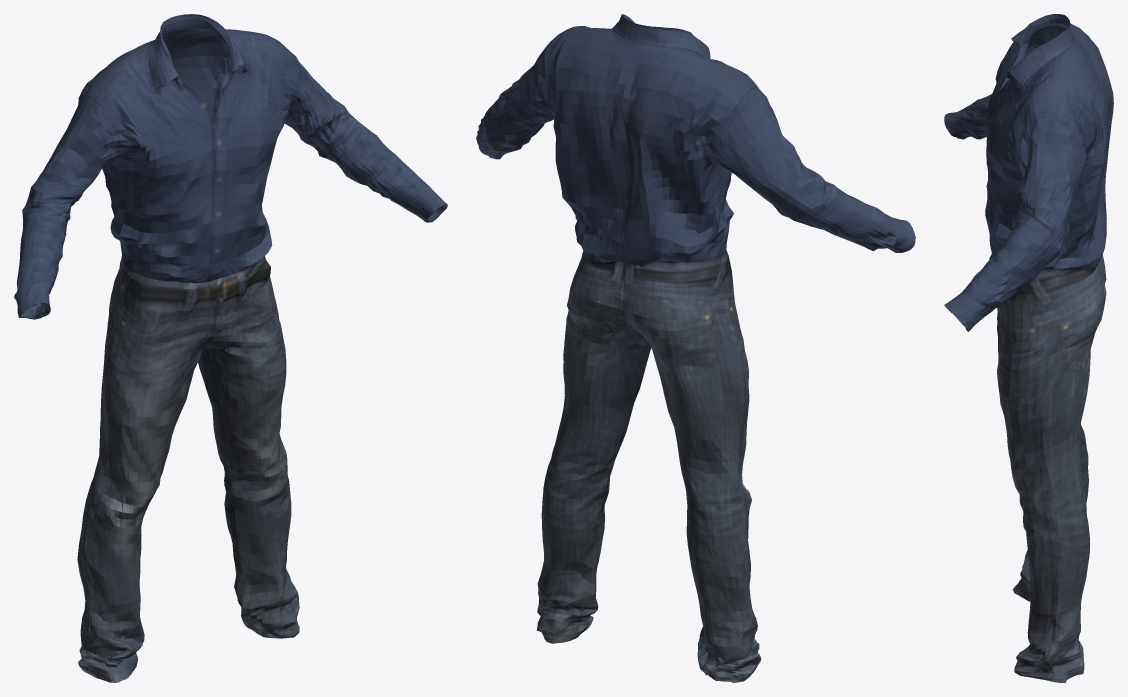
Rendered from male_casualsuit01.fitted.obj.
3 renders of one model, left to right at view 1: azimuth 30°, elevation 25°; view 2: azimuth 150°, elevation 25°; view 3: azimuth 270°, elevation 25°, orthographic. The views are drawn at different scales.
Visible parts, largest first — view 1: male_casualsuit01; view 2: male_casualsuit01; view 3: male_casualsuit01.
Boxes of the visible parts, x1,y1,x2,y2 form: male_casualsuit01: [14, 14, 447, 682]; male_casualsuit01: [476, 14, 915, 682]; male_casualsuit01: [944, 14, 1113, 682].
Size of the model in its own units: 10.41 by 14.56 by 3.66.
Materials: 1 (1 with a texture image).
